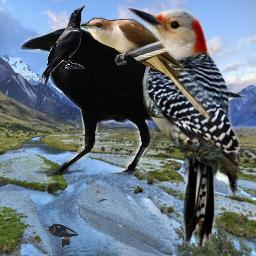Crow: (19, 27, 247, 179), (41, 5, 85, 85)
Cuckoo: (77, 17, 213, 121)
Swallow: (46, 223, 79, 247)
Woodpecker: (128, 7, 240, 247)
